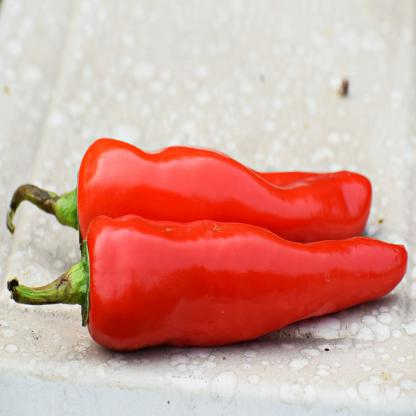chilli: (9, 210, 409, 358), (7, 133, 373, 255)
